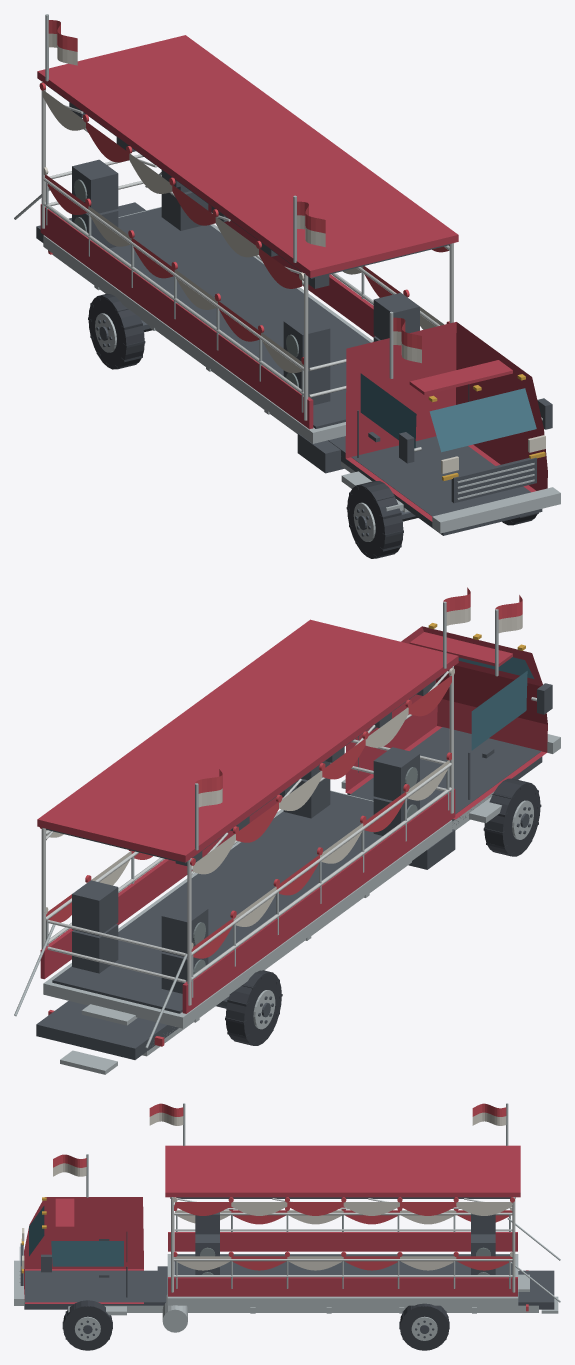
File: caminhao-vermelho-v2.glb
3 views of the same model, one above another, from view 1: azimuth 30°, elevation 25°; view 2: azimuth 150°, elevation 25°; view 3: azimuth 270°, elevation 25° (orthographic). The views are drawn at different scales.
Visible parts, largest first — view 1: Static_crimson, Static_charcoal, Static_steel, Static_glass, Static_chrome, Static_red, Static_cream, Pneu_2_L, Pneu_0_L, Bandeira_roof_0, Bandeira_cab, Bandeira_roof_1 (+1 smaller); view 2: Static_crimson, Static_charcoal, Static_steel, Static_chrome, Static_red, Static_cream, Pneu_2_L, Pneu_0_L, Static_glass, Bandeira_roof_0, Bandeira_roof_1, Bandeira_cab (+1 smaller); view 3: Static_crimson, Static_charcoal, Static_steel, Static_red, Static_chrome, Static_cream, Static_glass, Pneu_3_R, Pneu_1_R, Bandeira_roof_0, Bandeira_roof_1, Bandeira_cab.
Part boxes in pixels (x1,y1,x2,y2): Static_crimson: (37,35,547,521); Static_charcoal: (36,85,552,535); Static_steel: (14,14,560,533); Static_glass: (360,373,536,452); Static_chrome: (41,81,542,451); Static_red: (39,82,449,364); Static_cream: (42,90,443,373); Pneu_2_L: (346,481,403,558); Pneu_0_L: (88,293,145,369); Bandeira_roof_0: (48,20,77,65); Bandeira_cab: (393,317,421,363); Bandeira_roof_1: (297,201,325,246); Static_crimson: (37,619,547,1013); Static_charcoal: (36,669,552,1059); Static_steel: (14,601,560,1074); Static_chrome: (41,666,536,1005); Static_red: (39,676,451,1046); Static_cream: (44,668,454,949); Pneu_2_L: (483,778,541,856); Pneu_0_L: (225,970,282,1045); Static_glass: (458,657,534,750); Bandeira_roof_0: (195,769,222,807); Bandeira_roof_1: (443,587,470,625); Bandeira_cab: (495,595,522,633); Static_crimson: (24,1145,520,1303); Static_charcoal: (20,1197,554,1309); Static_steel: (14,1103,560,1332); Static_red: (173,1197,528,1311); Static_chrome: (171,1197,515,1292); Static_cream: (172,1197,512,1270); Static_glass: (29,1206,123,1266); Pneu_3_R: (62,1300,112,1350); Pneu_1_R: (399,1303,449,1350); Bandeira_roof_0: (472,1103,506,1125); Bandeira_roof_1: (149,1103,183,1125); Bandeira_cab: (53,1154,86,1176).
Size of the model in its own units: 0.2293 by 0.4027 by 1.
